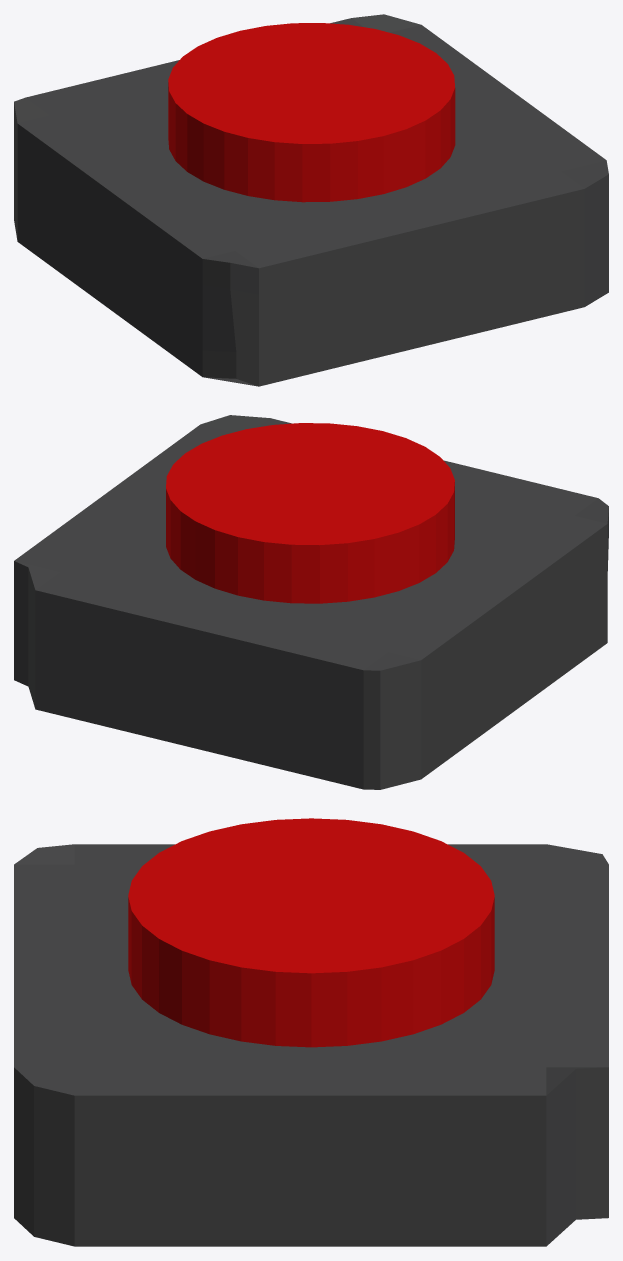
The model's file is lowpoly-button.obj.
3 views of the same model, one above another, from view 1: azimuth 30°, elevation 25°; view 2: azimuth 150°, elevation 25°; view 3: azimuth 270°, elevation 25° (orthographic). The views are drawn at different scales.
Visible parts, largest first — view 1: Cube, Cylinder; view 2: Cube, Cylinder; view 3: Cube, Cylinder.
Boxes of the visible parts, <box> form: Cube: <box>14,14,608,386</box>; Cylinder: <box>168,23,455,202</box>; Cube: <box>14,415,608,789</box>; Cylinder: <box>166,423,454,603</box>; Cube: <box>14,844,608,1246</box>; Cylinder: <box>128,818,494,1047</box>.
Bounding box in the file's own units: 1.2 × 0.5007 × 1.2.
